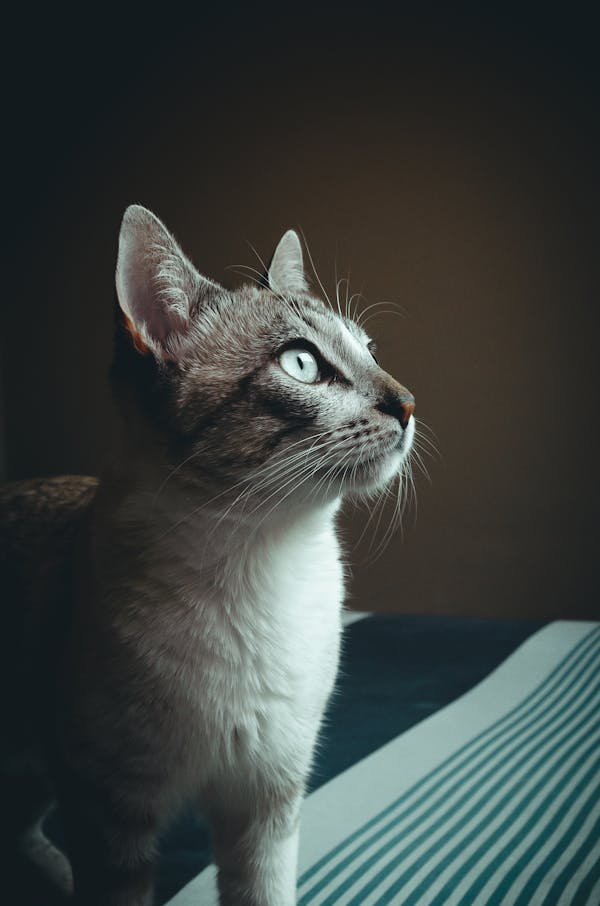Cat: (1, 205, 418, 906)
